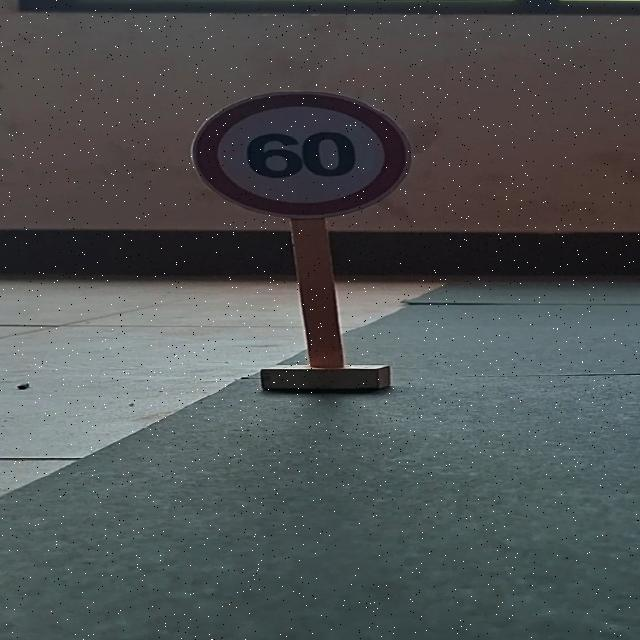Speed60: (184, 90, 416, 222)
